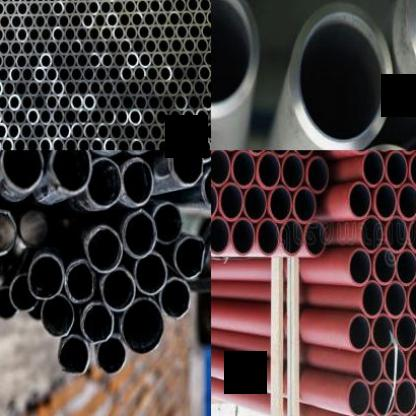pipe: (284, 1, 395, 150), (211, 0, 262, 125), (122, 298, 164, 354), (87, 224, 123, 273), (50, 150, 91, 192), (87, 158, 122, 207), (2, 150, 44, 190), (27, 254, 63, 299), (101, 266, 135, 312), (122, 157, 153, 206), (123, 212, 156, 258), (133, 252, 167, 296), (41, 295, 75, 337), (174, 236, 206, 279), (160, 277, 191, 320), (65, 259, 95, 303), (82, 302, 114, 343), (153, 201, 183, 243), (58, 336, 90, 375), (96, 335, 127, 375), (168, 150, 202, 186), (9, 273, 39, 312), (219, 182, 244, 222), (256, 151, 281, 190), (230, 150, 255, 189), (360, 280, 384, 319), (256, 218, 280, 257), (243, 184, 267, 223), (384, 150, 408, 189), (281, 152, 304, 192), (231, 218, 255, 256), (360, 215, 384, 253), (361, 150, 385, 188), (346, 378, 370, 416), (360, 346, 383, 385), (347, 313, 370, 352), (280, 218, 303, 257), (347, 182, 371, 219), (383, 346, 406, 384), (371, 314, 394, 352), (393, 313, 416, 351), (269, 185, 292, 223), (384, 280, 406, 319), (348, 249, 371, 286), (373, 248, 396, 285), (293, 187, 316, 224), (374, 183, 397, 220), (371, 379, 394, 416), (304, 220, 326, 258), (385, 216, 407, 253), (307, 156, 329, 193), (395, 248, 416, 286), (394, 378, 416, 414), (396, 182, 416, 221), (211, 216, 230, 255), (0, 208, 16, 254), (211, 150, 230, 186), (0, 285, 18, 320), (202, 165, 211, 209), (406, 346, 416, 384), (407, 281, 416, 320), (408, 216, 416, 254), (109, 122, 123, 142), (96, 122, 110, 142), (128, 107, 142, 127), (168, 107, 182, 127), (195, 107, 209, 127), (211, 181, 218, 220), (162, 123, 176, 142), (150, 123, 164, 142), (122, 123, 136, 142), (136, 123, 150, 142), (176, 123, 190, 142), (190, 123, 204, 142), (32, 122, 46, 141), (70, 122, 84, 141), (84, 122, 98, 141), (141, 108, 155, 127), (155, 108, 169, 127), (26, 107, 40, 126), (76, 107, 90, 126), (108, 93, 122, 112), (174, 93, 188, 112), (187, 93, 201, 112), (140, 79, 154, 98), (153, 79, 167, 98), (166, 79, 180, 98), (172, 64, 186, 83), (409, 151, 416, 189), (182, 107, 195, 127), (193, 78, 206, 98), (102, 108, 116, 126), (115, 108, 129, 126), (134, 94, 148, 112), (2, 80, 16, 98), (14, 80, 28, 98), (8, 66, 22, 84), (145, 65, 159, 83), (164, 51, 178, 69), (180, 10, 194, 28), (7, 122, 20, 141), (20, 122, 33, 141), (45, 122, 58, 141), (58, 122, 71, 141), (39, 107, 52, 126), (64, 107, 77, 126), (161, 93, 174, 112), (114, 79, 127, 98), (185, 64, 198, 83), (70, 94, 84, 111), (76, 80, 90, 97), (190, 51, 204, 68), (182, 37, 196, 54), (14, 108, 27, 126), (8, 94, 21, 112), (27, 80, 40, 98), (39, 80, 52, 98), (121, 65, 134, 83), (159, 65, 172, 83), (198, 64, 211, 82), (82, 38, 95, 56), (196, 36, 209, 54), (168, 10, 181, 28), (52, 107, 64, 126), (90, 107, 102, 126), (102, 79, 114, 98), (128, 79, 140, 98), (178, 50, 190, 69), (179, 80, 193, 96), (124, 25, 138, 41), (188, 24, 202, 40), (33, 94, 46, 111), (58, 94, 71, 111), (83, 94, 96, 111), (64, 80, 77, 97), (21, 66, 34, 83), (33, 66, 46, 83), (45, 66, 58, 83), (70, 66, 83, 83), (133, 65, 146, 82), (3, 53, 16, 70), (15, 53, 28, 70), (113, 52, 126, 69), (100, 52, 113, 69), (16, 27, 29, 44), (163, 24, 176, 41), (2, 108, 14, 126), (21, 94, 33, 112), (122, 94, 134, 112), (148, 94, 160, 112), (52, 80, 64, 98), (52, 52, 64, 70), (76, 52, 88, 70), (108, 66, 121, 82), (106, 38, 119, 54), (119, 38, 132, 54), (157, 38, 170, 54), (170, 38, 183, 54), (175, 24, 188, 40), (22, 14, 35, 30), (96, 94, 108, 111), (90, 80, 102, 97), (58, 66, 70, 83), (28, 53, 40, 70), (40, 53, 52, 70), (88, 52, 100, 69), (126, 51, 138, 68), (152, 51, 164, 68), (139, 51, 151, 68), (22, 39, 34, 56), (34, 39, 46, 56), (4, 27, 16, 44), (100, 25, 112, 42), (112, 25, 124, 42), (150, 24, 162, 41), (10, 13, 22, 30), (34, 13, 46, 30), (106, 12, 118, 29), (194, 10, 206, 27), (45, 95, 58, 110), (83, 66, 95, 82), (64, 53, 76, 69), (10, 40, 22, 56), (46, 40, 58, 56), (58, 39, 70, 55), (70, 39, 82, 55), (94, 39, 106, 55), (132, 38, 144, 54), (144, 38, 156, 54), (28, 26, 40, 42), (40, 26, 52, 42), (52, 26, 64, 42), (64, 26, 76, 42), (76, 26, 88, 42), (88, 26, 100, 42), (138, 25, 150, 41), (46, 14, 58, 30), (70, 13, 82, 29), (94, 13, 106, 29), (82, 13, 94, 29), (118, 12, 130, 28), (131, 12, 143, 28), (144, 12, 156, 28), (4, 1, 16, 17), (28, 0, 40, 16), (40, 0, 52, 16), (52, 0, 64, 16), (64, 0, 76, 16), (76, 0, 88, 16), (201, 92, 211, 111), (292, 150, 315, 158), (170, 137, 184, 150), (184, 137, 198, 150), (116, 137, 130, 150), (90, 137, 104, 150), (38, 137, 52, 150), (123, 0, 136, 14), (201, 22, 211, 40), (58, 14, 70, 29), (156, 12, 168, 27), (88, 0, 100, 15), (100, 0, 112, 15), (112, 0, 124, 15), (96, 66, 107, 82), (0, 13, 10, 30), (198, 137, 211, 150), (64, 137, 77, 150), (77, 137, 90, 150), (0, 137, 13, 150), (52, 137, 65, 150), (136, 0, 149, 13), (186, 0, 199, 13), (143, 138, 157, 150), (156, 138, 170, 150), (130, 138, 144, 150), (148, 0, 160, 14), (0, 40, 10, 56), (18, 0, 28, 16), (104, 137, 116, 150), (14, 137, 26, 150), (26, 137, 38, 150), (162, 0, 174, 13), (174, 0, 186, 13), (0, 66, 9, 83), (203, 122, 211, 141), (0, 94, 8, 112), (199, 0, 210, 13), (203, 50, 211, 67), (0, 122, 7, 140), (206, 78, 211, 97), (383, 412, 405, 416), (206, 9, 211, 25), (0, 1, 5, 16), (357, 413, 381, 416), (0, 26, 4, 42), (208, 106, 211, 126), (22, 0, 35, 4), (0, 53, 3, 69), (208, 36, 211, 52), (10, 0, 22, 4), (34, 0, 46, 4), (46, 0, 58, 4), (0, 0, 11, 4), (0, 80, 2, 98), (58, 0, 70, 3), (69, 0, 81, 3), (0, 107, 1, 126), (0, 137, 1, 150)
